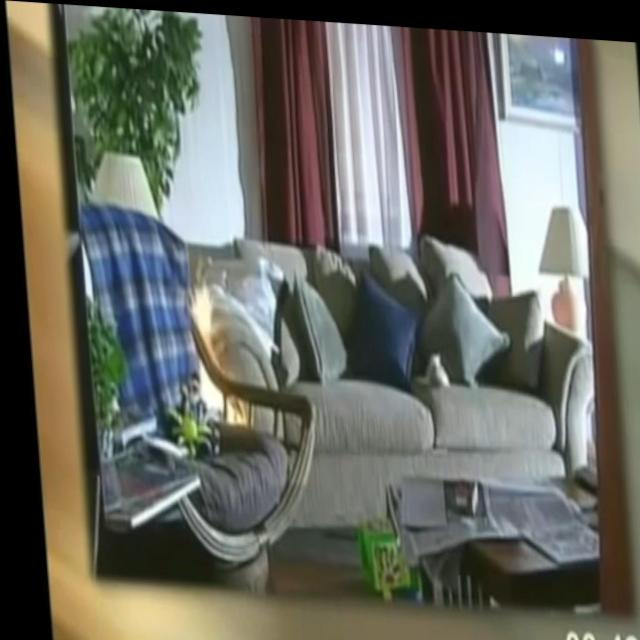fire: (181, 269, 246, 425)
